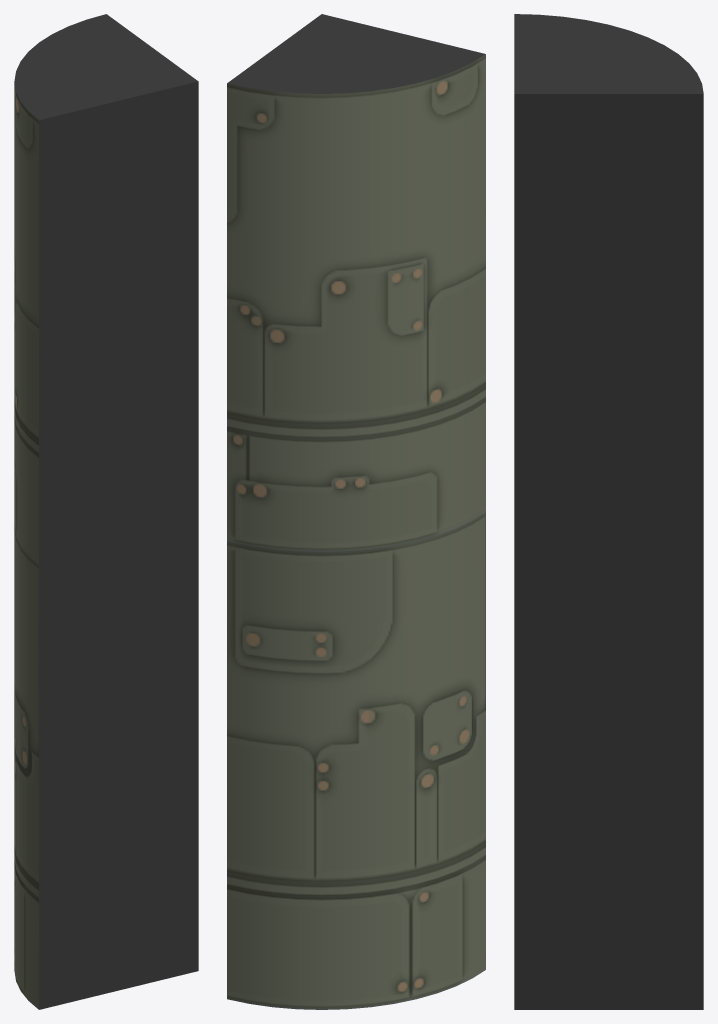
Rendered from Env_Cnt_WallExterior_Corner_Top.fbx.
The picture shows the model from 3 angles, left to right: view 1: azimuth 30°, elevation 25°; view 2: azimuth 150°, elevation 25°; view 3: azimuth 270°, elevation 25°; orthographic projection. The views are drawn at different scales.
Parts seen in each view (by area): view 1: Wall_Exterior_Corner_Top, Wall_Exterior_Corner; view 2: Wall_Exterior_Corner_Top, Wall_Exterior_Corner; view 3: Wall_Exterior_Corner_Top, Wall_Exterior_Corner.
Boxes of the visible parts, bbox=[...] form: Wall_Exterior_Corner_Top: bbox=[14, 14, 198, 564]; Wall_Exterior_Corner: bbox=[14, 526, 198, 1009]; Wall_Exterior_Corner_Top: bbox=[227, 14, 485, 551]; Wall_Exterior_Corner: bbox=[227, 512, 485, 1009]; Wall_Exterior_Corner_Top: bbox=[514, 14, 703, 551]; Wall_Exterior_Corner: bbox=[514, 552, 703, 1009].
Bounding box in the file's own units: 37.5 × 200 × 37.5.
